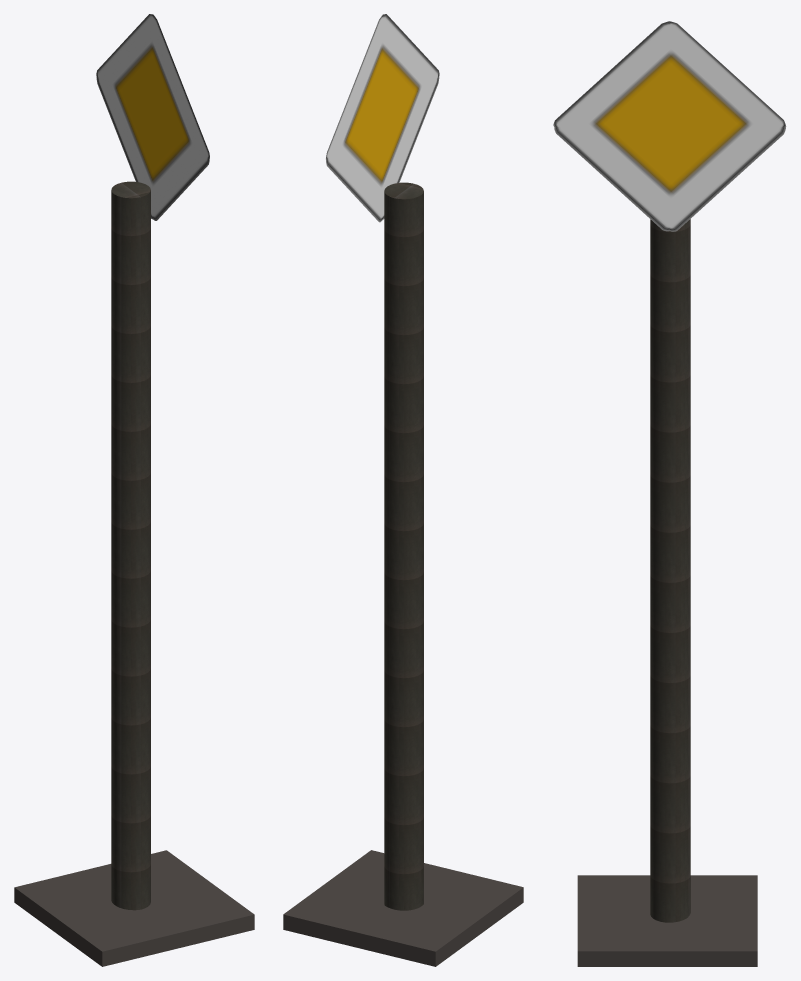
The model's file is sign_priority.obj.
3 renders of one model, left to right at view 1: azimuth 30°, elevation 25°; view 2: azimuth 150°, elevation 25°; view 3: azimuth 270°, elevation 25°, orthographic. The views are drawn at different scales.
Visible parts, largest first — view 1: SketchUp.001_ID10.001, SketchUp_ID2.001, Cube_Cube.000; view 2: SketchUp.001_ID10.001, SketchUp_ID2.001, Cube_Cube.000; view 3: SketchUp.001_ID10.001, Cube_Cube.000, SketchUp_ID2.001.
Part boxes in pixels (left/top/right/bottom): SketchUp.001_ID10.001: left=111, top=181, right=150, bottom=910; SketchUp_ID2.001: left=14, top=850, right=254, bottom=966; Cube_Cube.000: left=96, top=14, right=209, bottom=220; SketchUp.001_ID10.001: left=384, top=182, right=423, bottom=910; SketchUp_ID2.001: left=283, top=850, right=523, bottom=966; Cube_Cube.000: left=326, top=14, right=439, bottom=222; SketchUp.001_ID10.001: left=650, top=219, right=690, bottom=922; Cube_Cube.000: left=553, top=21, right=786, bottom=231; SketchUp_ID2.001: left=577, top=875, right=757, bottom=966.
Bounding box in the file's own units: 0.0349 × 0.1965 × 0.0455.
2 materials, 2 textured.
